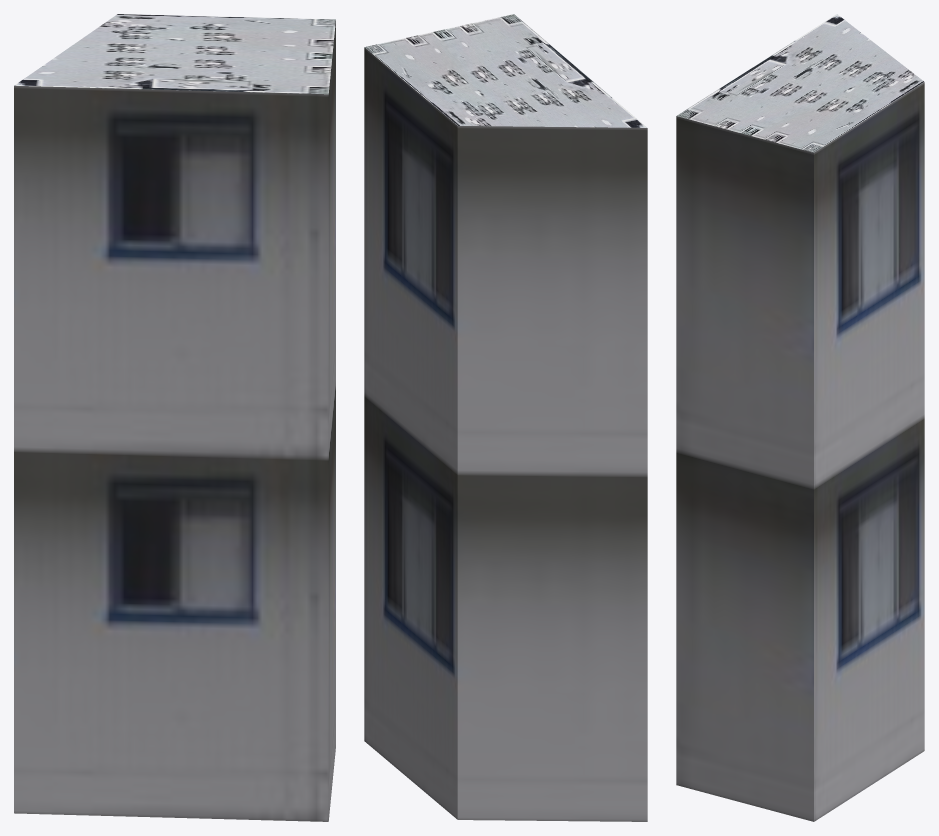
File: ResTex__5009.fbx
The picture shows the model from 3 angles, left to right: view 1: azimuth 30°, elevation 25°; view 2: azimuth 150°, elevation 25°; view 3: azimuth 270°, elevation 25°; orthographic projection. The views are drawn at different scales.
Parts seen in each view (by area): view 1: CityEngineMaterial_9_m, CityEngineMaterial_2_m; view 2: CityEngineMaterial_9_m, CityEngineMaterial_2_m; view 3: CityEngineMaterial_9_m, CityEngineMaterial_2_m.
Boxes of the visible parts, <box> form: CityEngineMaterial_9_m: <box>14,21,335,821</box>; CityEngineMaterial_2_m: <box>14,14,335,94</box>; CityEngineMaterial_9_m: <box>364,47,647,821</box>; CityEngineMaterial_2_m: <box>364,14,646,127</box>; CityEngineMaterial_9_m: <box>676,82,924,821</box>; CityEngineMaterial_2_m: <box>677,14,924,152</box>.
Bounding box in the file's own units: 2.67 × 6 × 2.02.
Materials: 2 (2 with a texture image).
